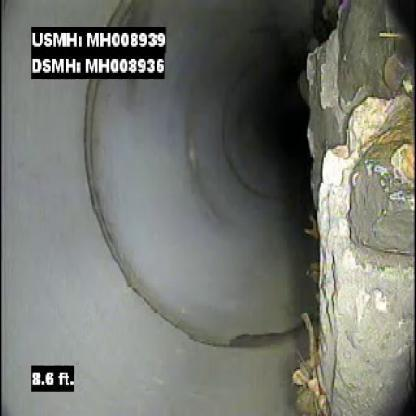Obstacle: (226, 0, 415, 409)
